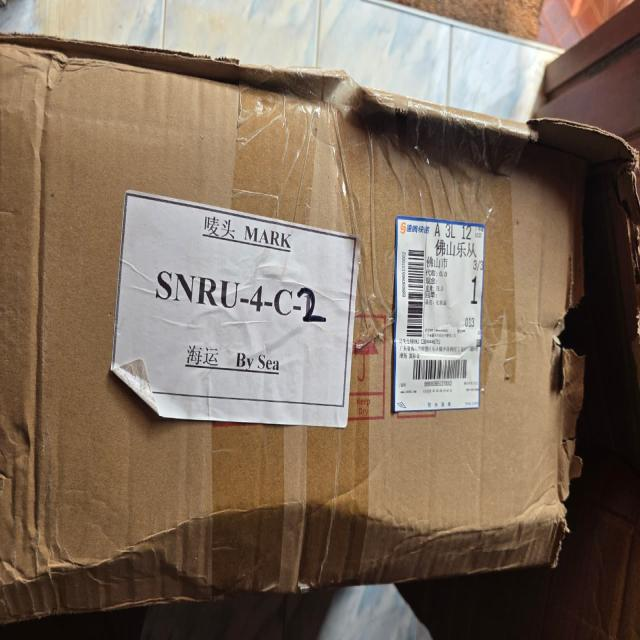carton_box: (0, 15, 618, 625)
export_mark_label: (124, 175, 344, 410), (392, 206, 494, 421)
keep_dry_label: (345, 303, 394, 428)
package_damage: (0, 14, 640, 178), (546, 168, 607, 575), (221, 555, 344, 611)
